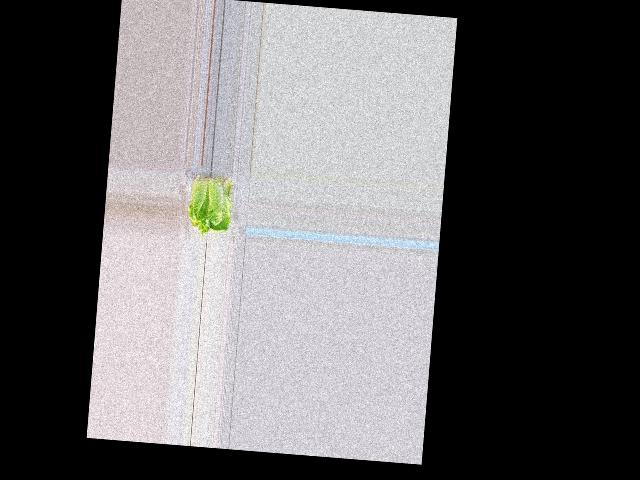lettuce: (186, 177, 234, 236)
